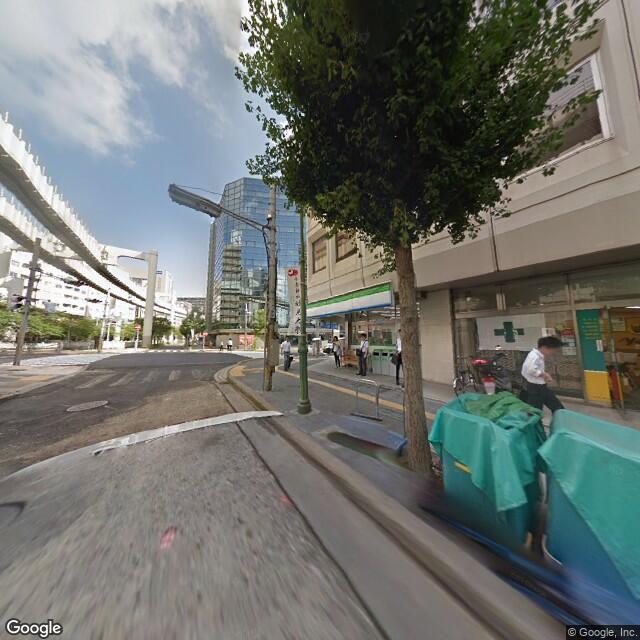family_mart: (302, 281, 397, 321)
